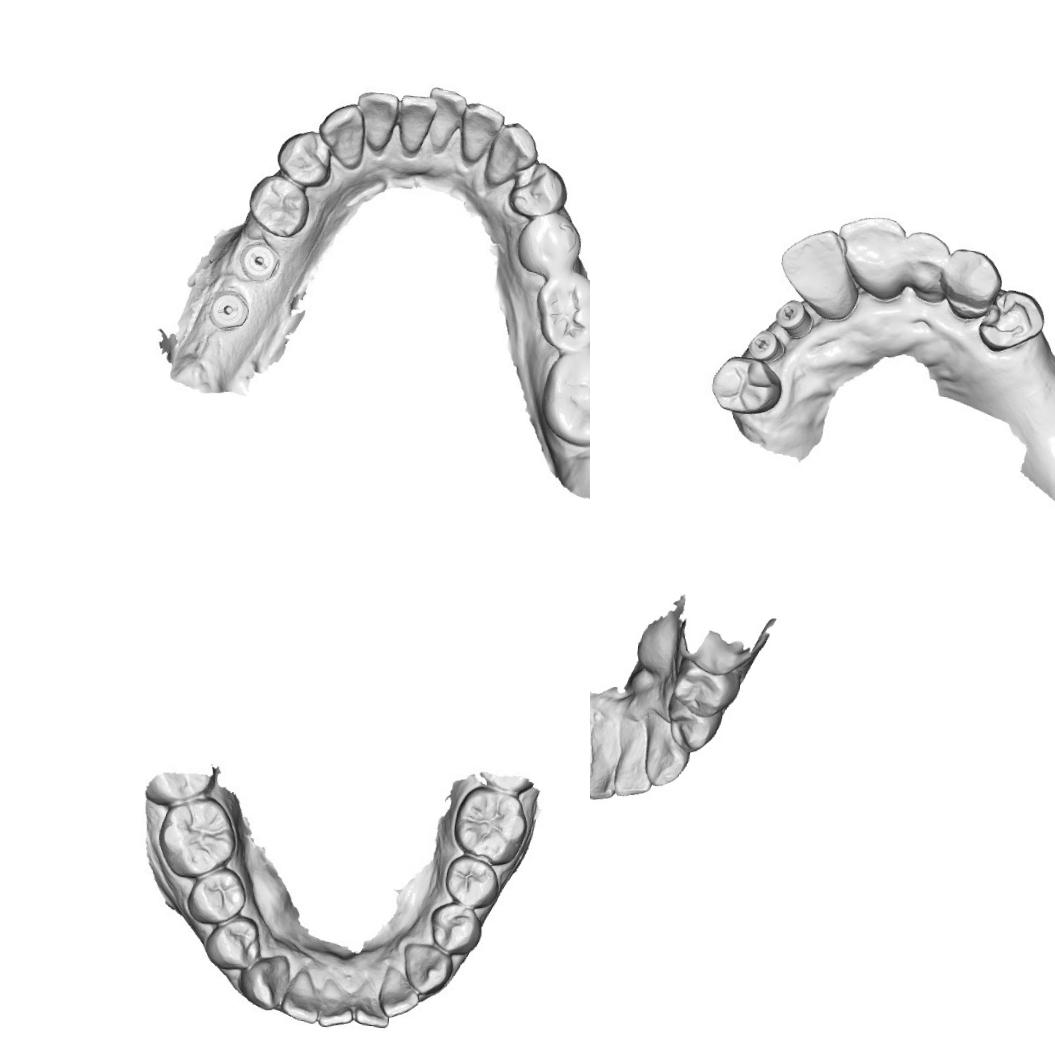canine: (940, 242, 1005, 314), (484, 117, 540, 191), (642, 710, 693, 790), (316, 100, 366, 172), (396, 936, 454, 998), (244, 953, 291, 1010)
implant_minus: (208, 287, 248, 330), (238, 244, 278, 282), (745, 328, 786, 360), (773, 298, 812, 331)
incisor: (830, 212, 911, 292), (774, 223, 848, 305), (611, 712, 658, 800), (896, 227, 953, 298), (425, 88, 470, 156), (356, 87, 398, 158), (590, 710, 622, 801), (458, 102, 500, 167), (394, 94, 433, 160), (380, 968, 427, 1022), (316, 978, 354, 1036), (284, 968, 322, 1019), (355, 985, 388, 1031)
molar: (151, 792, 238, 882), (452, 777, 536, 866), (536, 347, 590, 450), (530, 271, 590, 355)
premolar: (706, 352, 786, 417), (669, 656, 743, 721), (504, 158, 574, 224), (516, 210, 582, 277), (273, 124, 335, 188), (184, 866, 246, 928), (663, 691, 724, 754), (440, 856, 503, 914), (247, 174, 306, 232), (206, 915, 262, 968), (426, 902, 480, 954)
